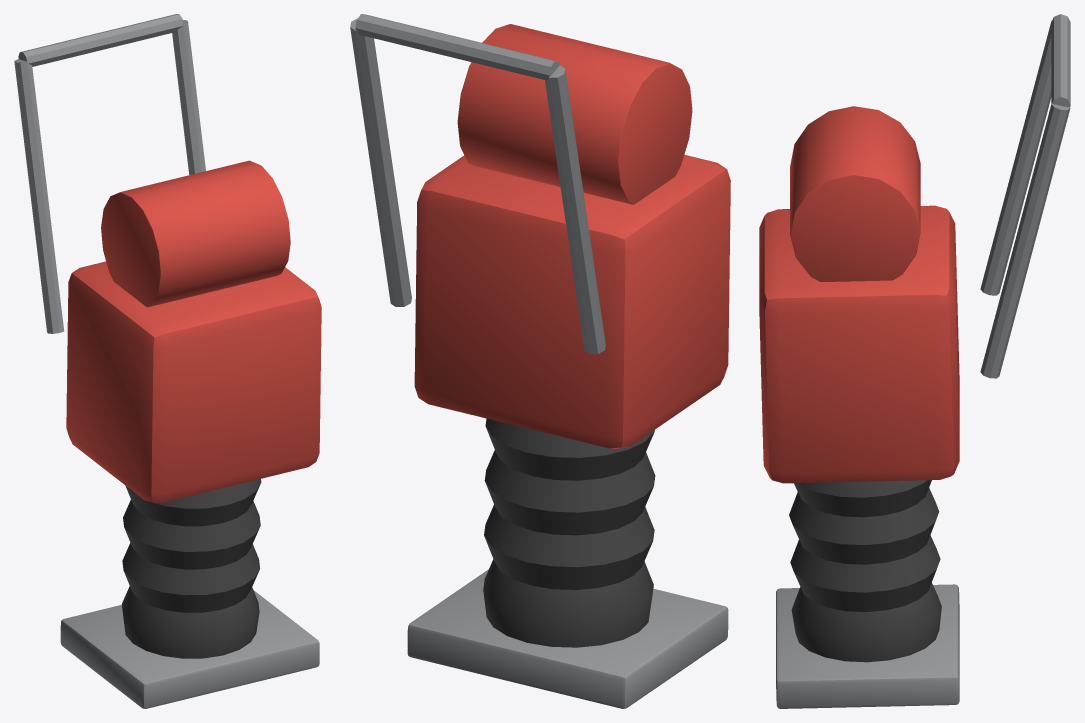
File: EQP-CMP-006_anim.glb
3 views of the same model, side by side, from view 1: azimuth 30°, elevation 25°; view 2: azimuth 150°, elevation 25°; view 3: azimuth 270°, elevation 25° (orthographic). The views are drawn at different scales.
Visible parts, largest first — view 1: EQP-CMP-006_anim0; view 2: EQP-CMP-006_anim0; view 3: EQP-CMP-006_anim0.
Boxes of the visible parts, box(x1,y1,x2,y2) form: EQP-CMP-006_anim0: box(14, 14, 321, 708); EQP-CMP-006_anim0: box(350, 14, 730, 708); EQP-CMP-006_anim0: box(759, 14, 1070, 708).
Bounding box in the file's own units: 0.34 × 1.03 × 0.4766.
